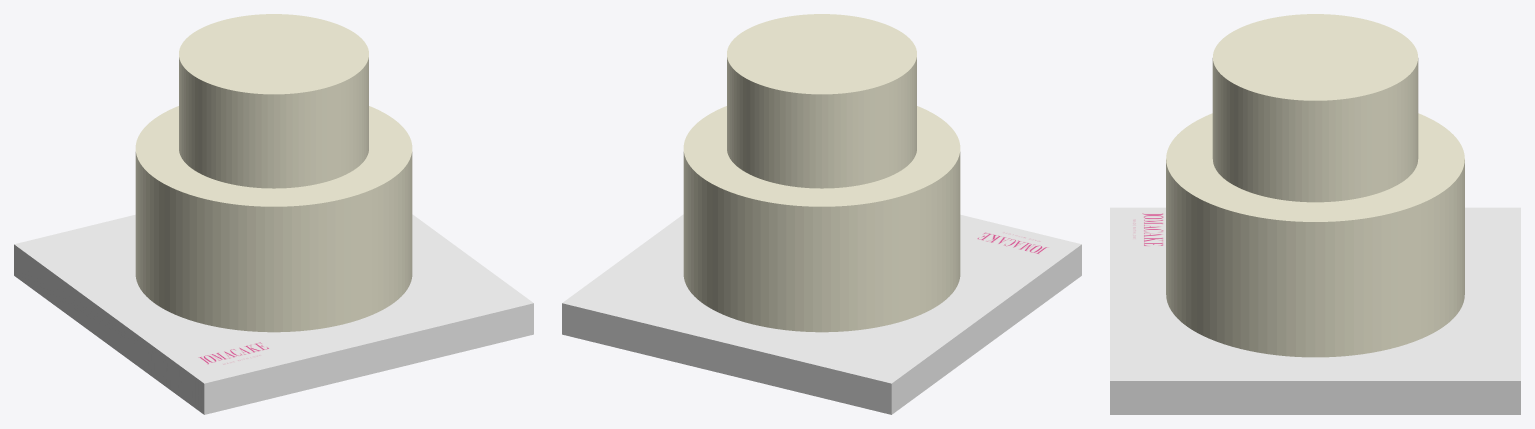
Rendered from cake_tier2_6-4_layers2_v44.glb.
3 views of the same model, side by side, from view 1: azimuth 30°, elevation 25°; view 2: azimuth 150°, elevation 25°; view 3: azimuth 270°, elevation 25° (orthographic). The views are drawn at different scales.
Parts seen in each view (by area): view 1: Tier0, Board, Tier1, Logo; view 2: Tier0, Board, Tier1, Logo; view 3: Tier0, Board, Tier1, Logo.
Part boxes in pixels (x1=…): Tier0: x1=135, y1=106, x2=412, y2=332; Board: x1=14, y1=214, x2=533, y2=414; Tier1: x1=179, y1=14, x2=368, y2=188; Logo: x1=185, y1=337, x2=286, y2=373; Tier0: x1=683, y1=106, x2=960, y2=332; Board: x1=562, y1=214, x2=1081, y2=414; Tier1: x1=727, y1=14, x2=916, y2=188; Logo: x1=965, y1=223, x2=1065, y2=259; Tier0: x1=1166, y1=113, x2=1464, y2=357; Board: x1=1110, y1=207, x2=1520, y2=414; Tier1: x1=1212, y1=14, x2=1418, y2=202; Logo: x1=1122, y1=209, x2=1165, y2=250.
Size of the model in its own units: 0.22 by 0.16 by 0.22.
